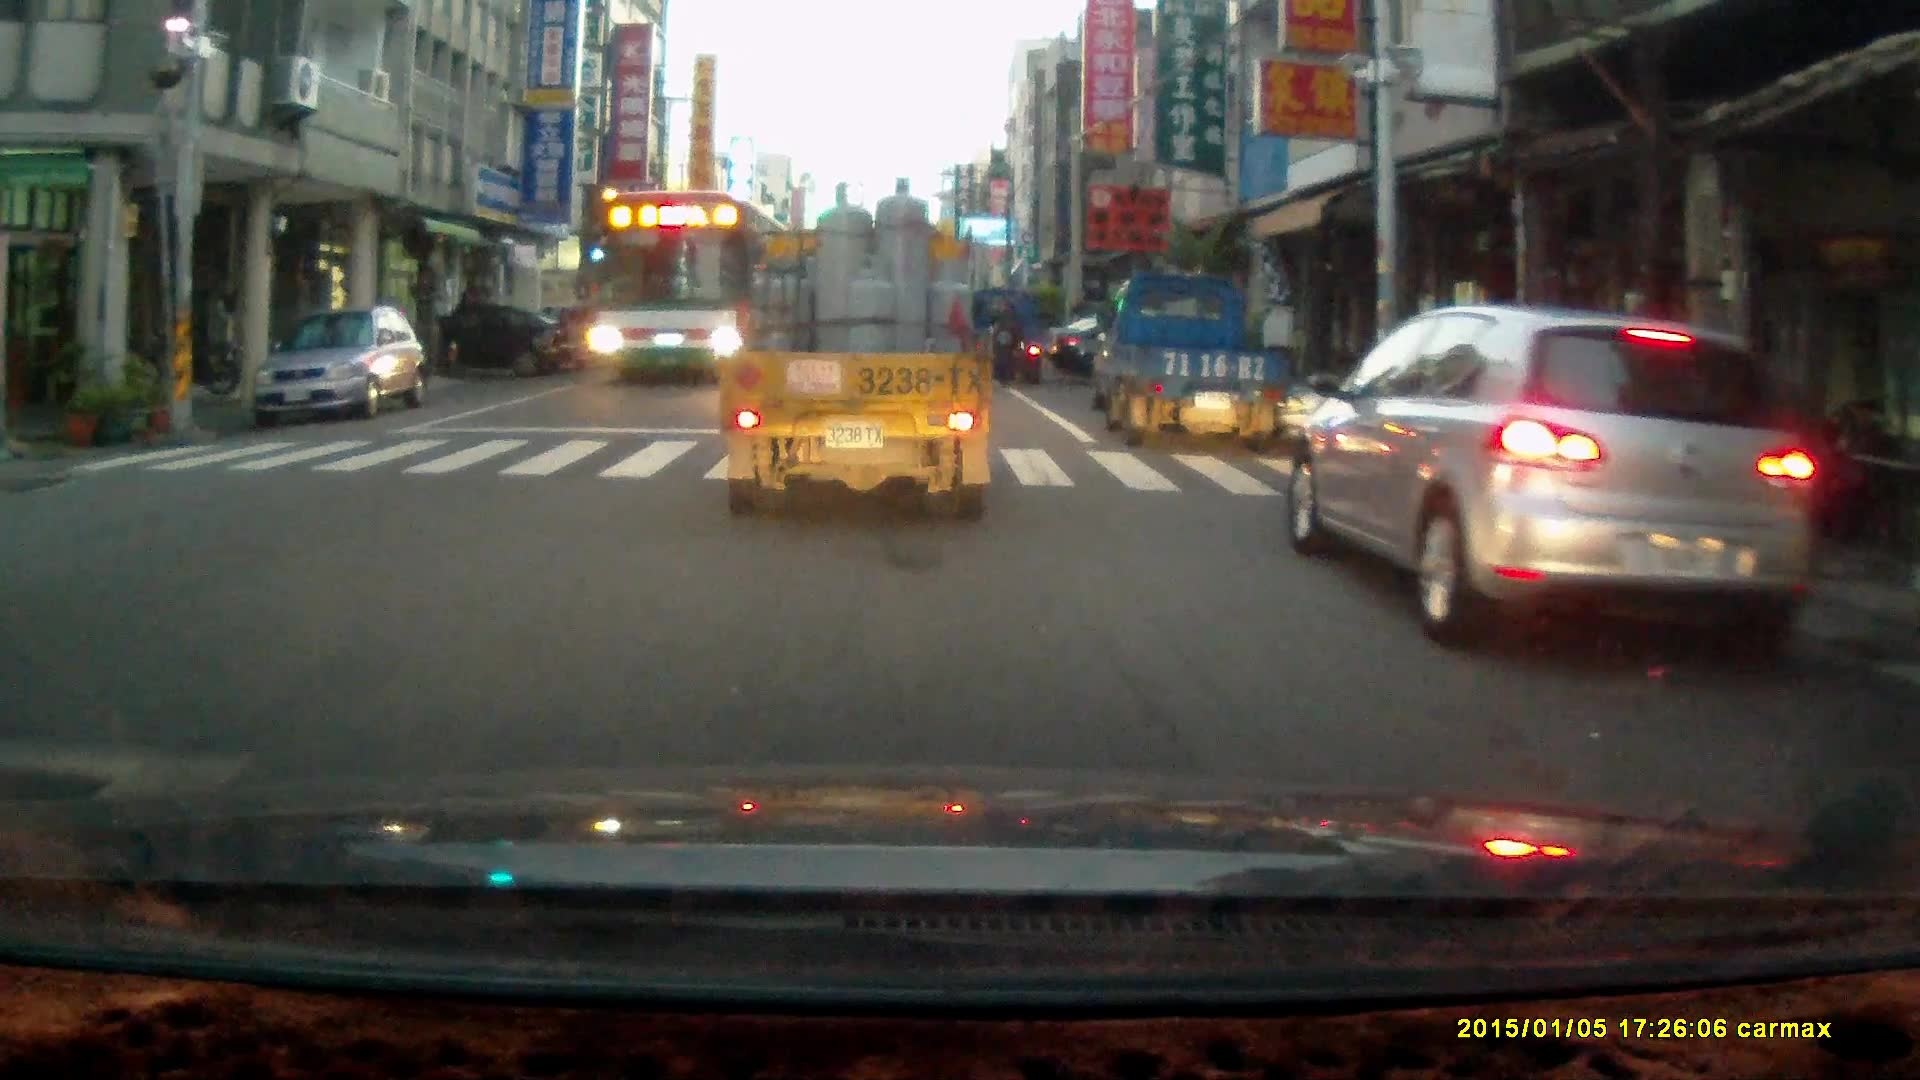pedestrian: (992, 288, 1032, 382)
vehicle: (1288, 297, 1813, 650), (724, 171, 997, 525), (581, 186, 780, 385), (1088, 263, 1285, 443), (245, 301, 429, 424), (396, 297, 579, 374), (557, 293, 657, 365)
